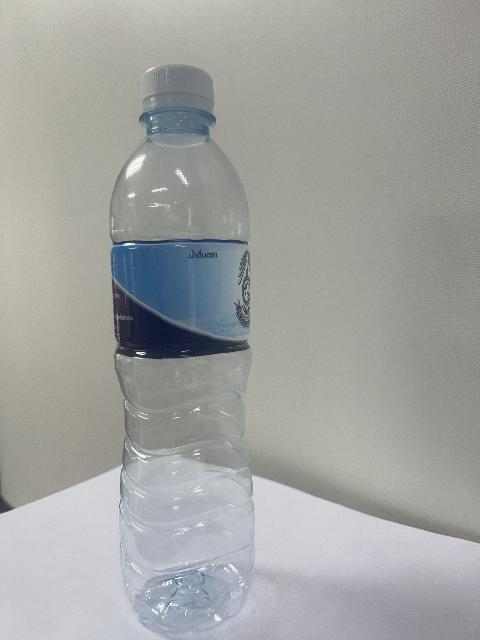bottle: (111, 66, 254, 632)
